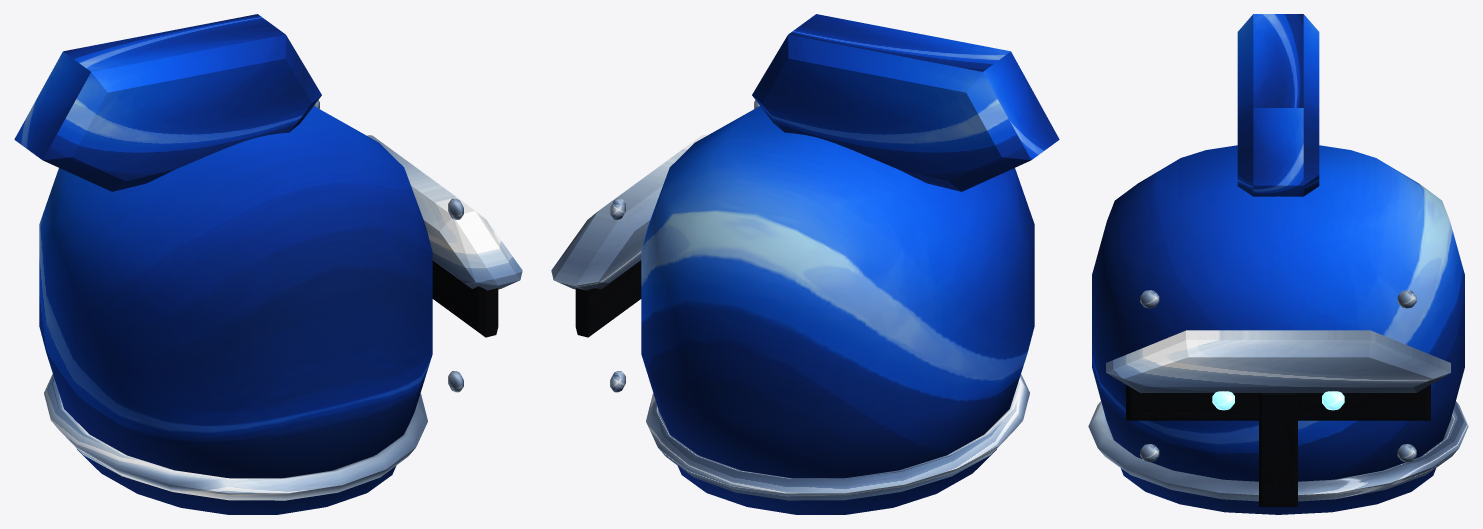
The model's file is cobalt-helmet.glb.
3 renders of one model, left to right at view 1: azimuth 30°, elevation 25°; view 2: azimuth 150°, elevation 25°; view 3: azimuth 270°, elevation 25°, orthographic. The views are drawn at different scales.
Visible parts, largest first — view 1: head; view 2: head; view 3: head.
Boxes of the visible parts, <box> form: head: <box>14,14,522,514</box>; head: <box>551,14,1059,514</box>; head: <box>1088,14,1468,514</box>.
Size of the model in its own units: 0.4589 by 0.449 by 0.4149.
4 materials, 4 textured.
